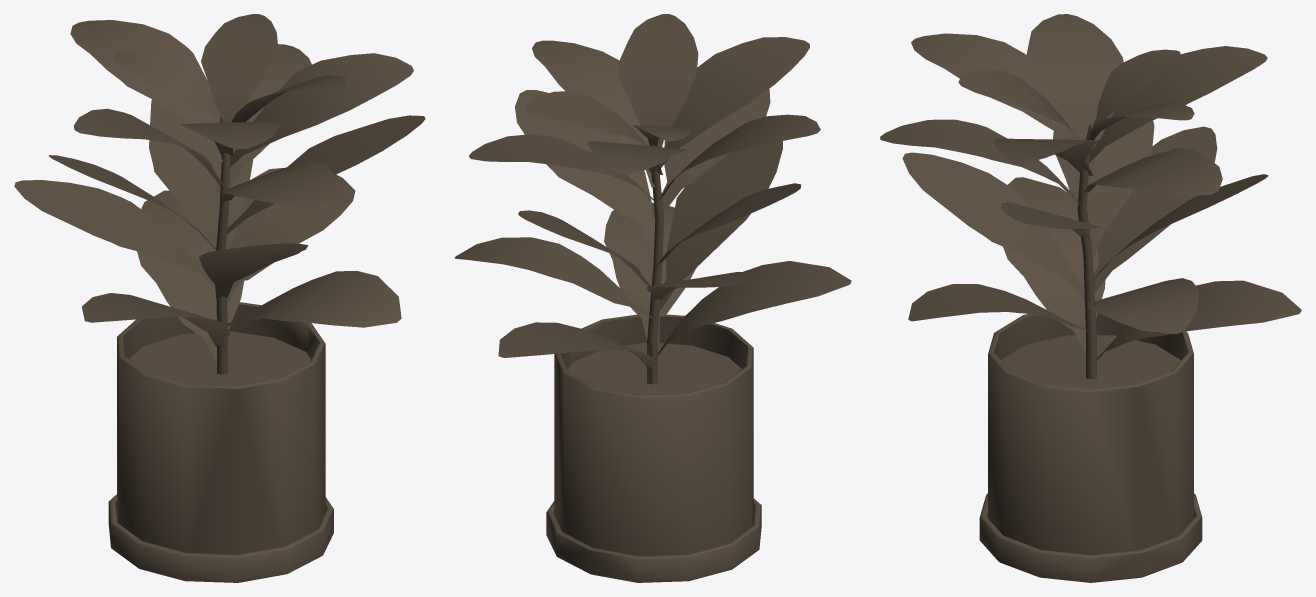
The model's file is croton_a.glb.
3 renders of one model, left to right at view 1: azimuth 30°, elevation 25°; view 2: azimuth 150°, elevation 25°; view 3: azimuth 270°, elevation 25°, orthographic. The views are drawn at different scales.
Parts seen in each view (by area): view 1: Pot2_w; view 2: Pot2_w; view 3: Pot2_w.
Part boxes in pixels (x1,y1,x2,y2): Pot2_w: (14, 14, 425, 582); Pot2_w: (454, 14, 851, 582); Pot2_w: (880, 14, 1301, 582).
Bounding box in the file's own units: 0.8831 × 1.2 × 0.9566.
1 material, 1 textured.
